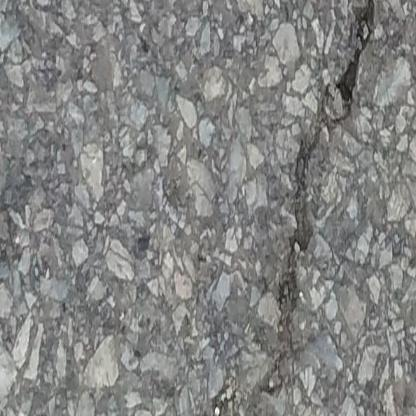Cracks: (274, 0, 384, 349)
